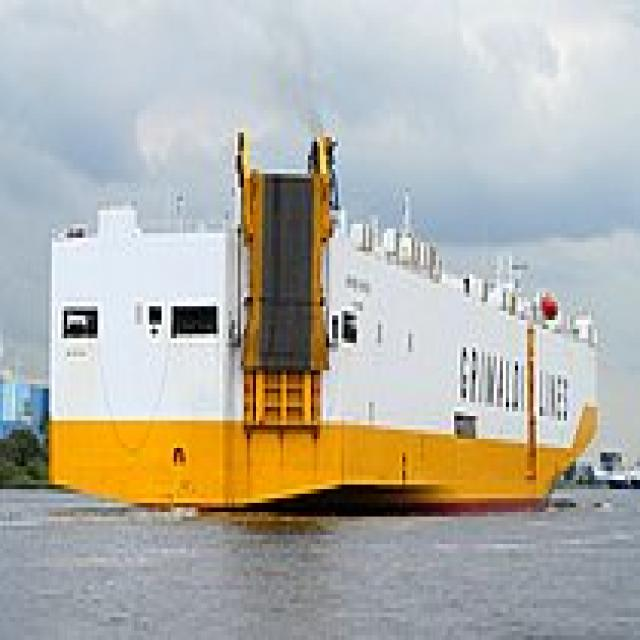Carrier: (43, 110, 597, 516)
